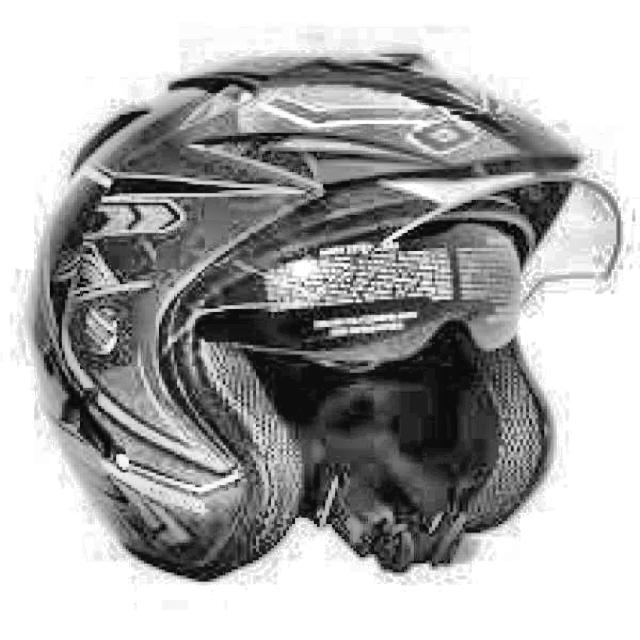Helmet: (17, 40, 612, 568)
